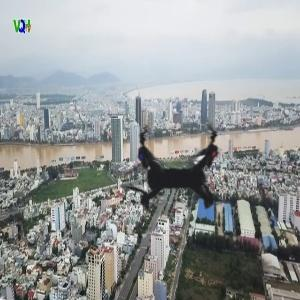drone: (74, 76, 274, 276)
